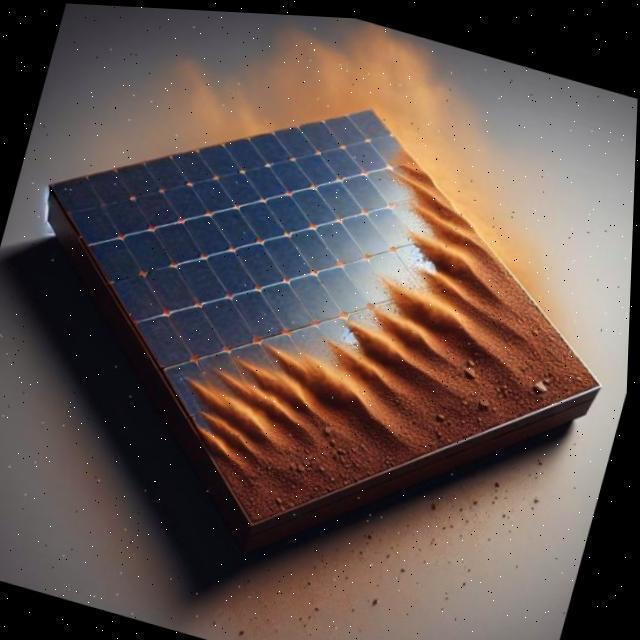Anomaly Solar Panel: (54, 14, 605, 565)
Surface Contaminant: (123, 125, 607, 599)
